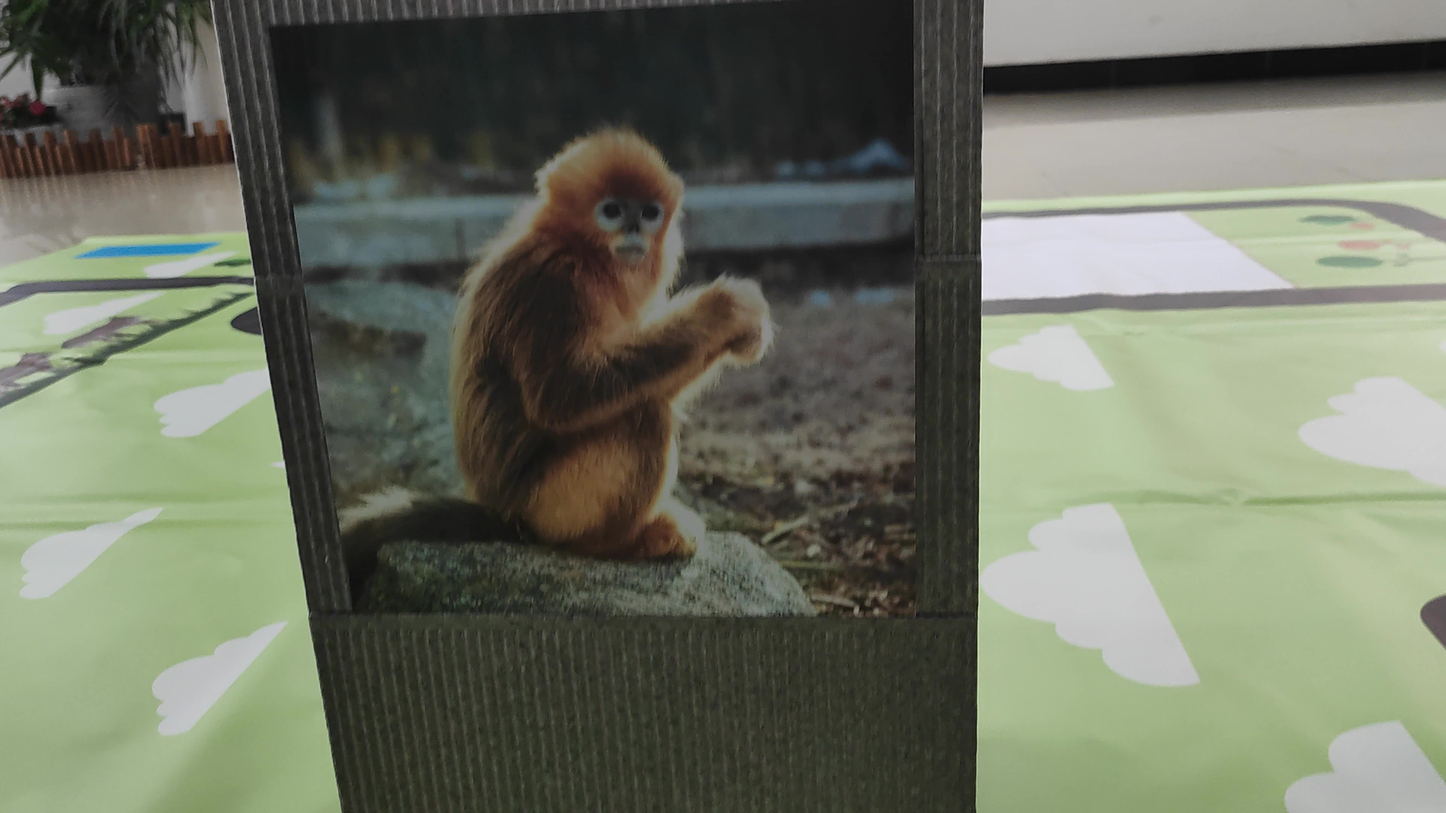monkey: (400, 106, 851, 573)
